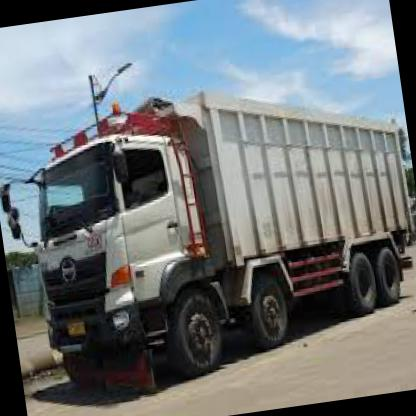truck: (21, 121, 229, 396)
